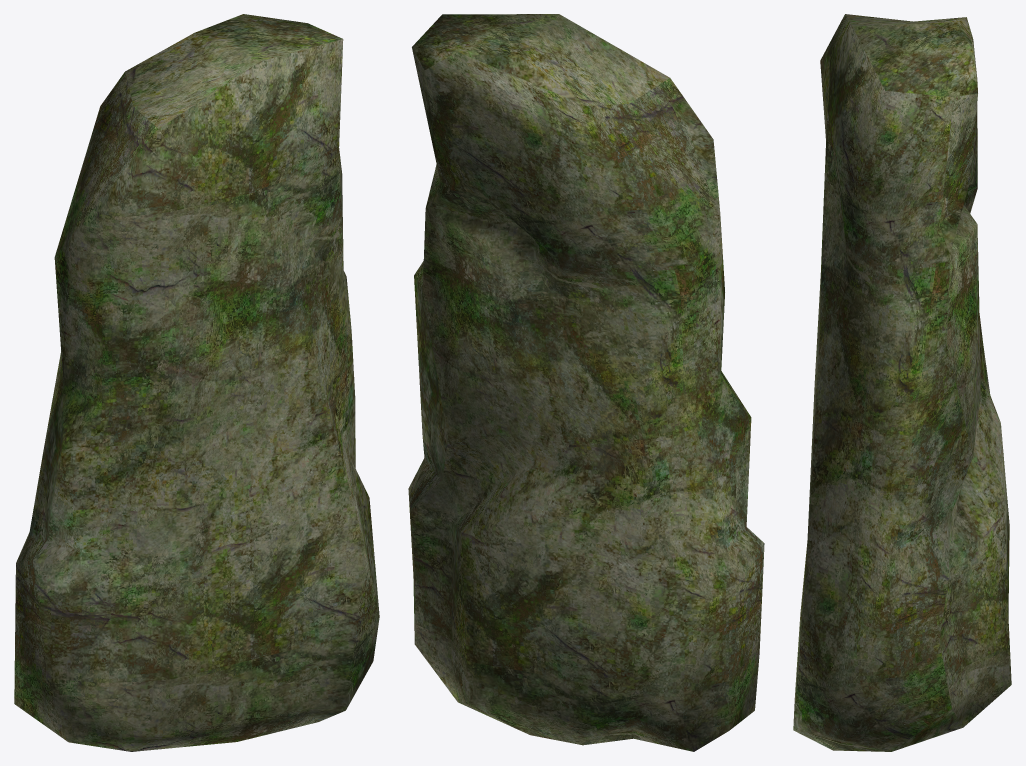
File: stone_04.FBX
3 renders of one model, left to right at view 1: azimuth 30°, elevation 25°; view 2: azimuth 150°, elevation 25°; view 3: azimuth 270°, elevation 25°, orthographic. The views are drawn at different scales.
Parts seen in each view (by area): view 1: stone_04_02; view 2: stone_04_02; view 3: stone_04_02.
Part boxes in pixels (x1,y1,x2,y2): stone_04_02: [14, 14, 379, 751]; stone_04_02: [408, 14, 764, 751]; stone_04_02: [793, 14, 1011, 751].
Bounding box in the file's own units: 4.48 × 8.35 × 2.37.
